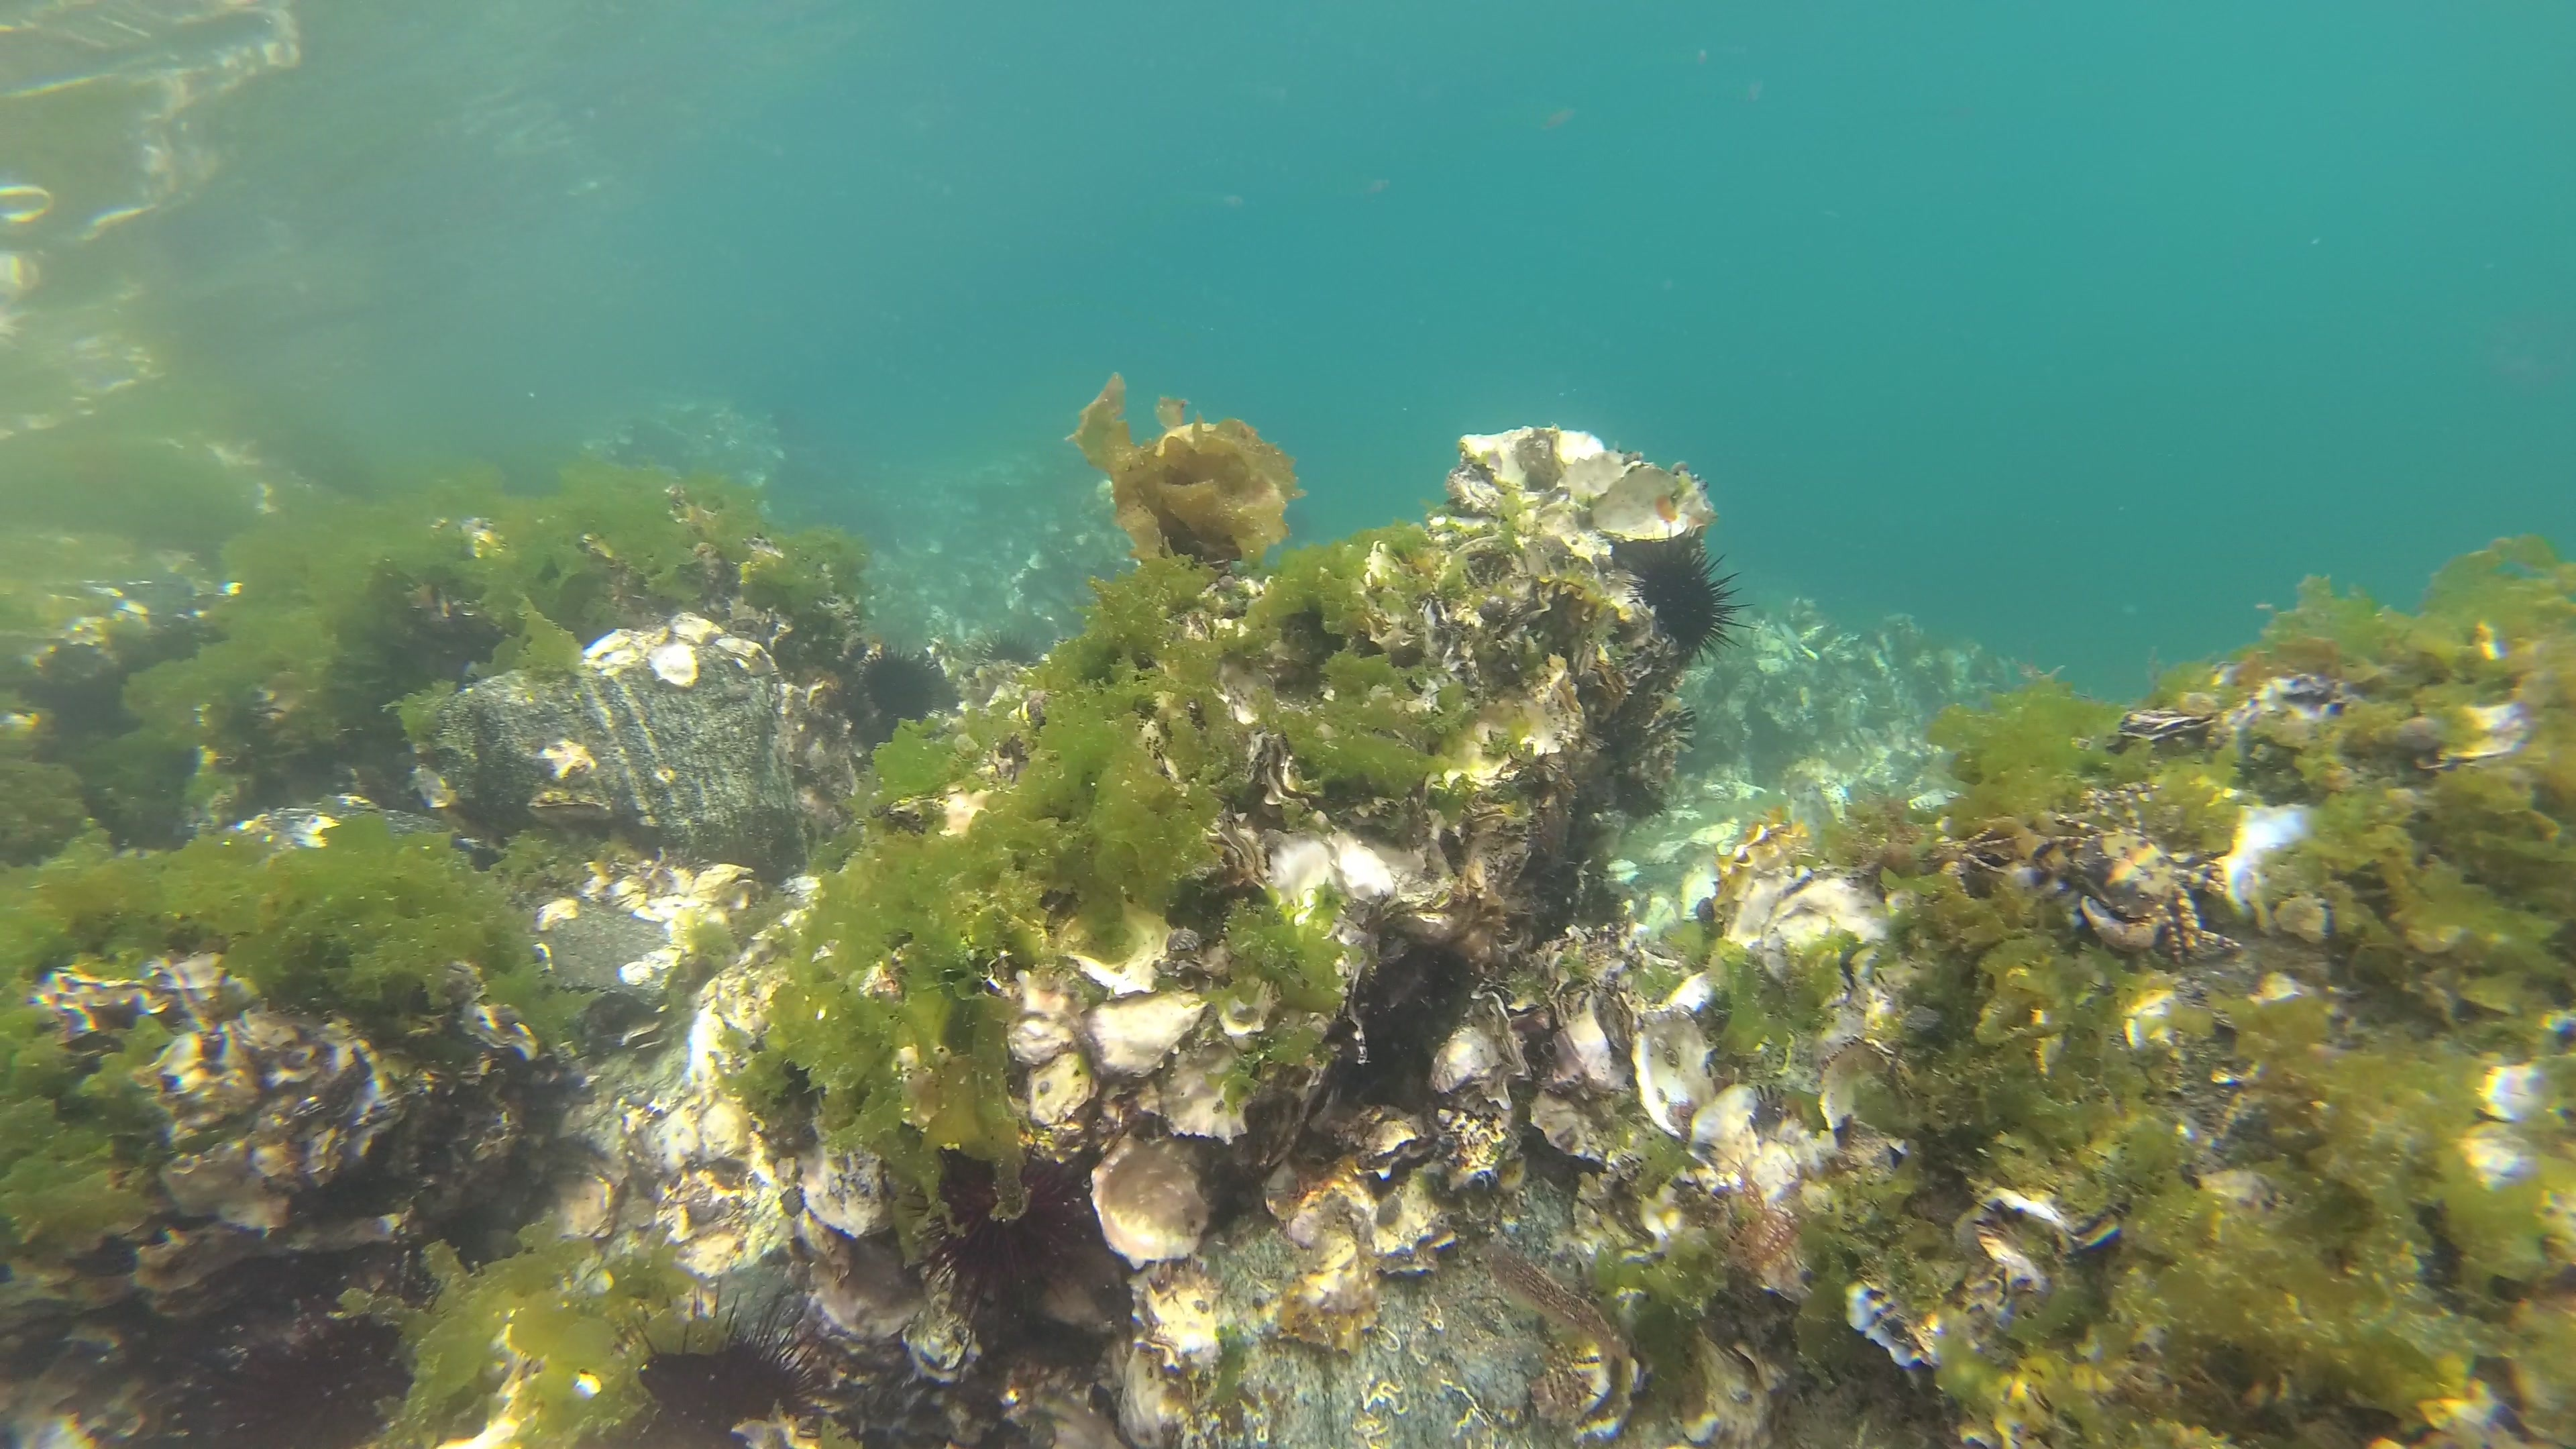echinus: (605, 1286, 839, 1449), (1610, 513, 1748, 676), (849, 640, 955, 743), (924, 1191, 1023, 1284), (982, 626, 1037, 692)
